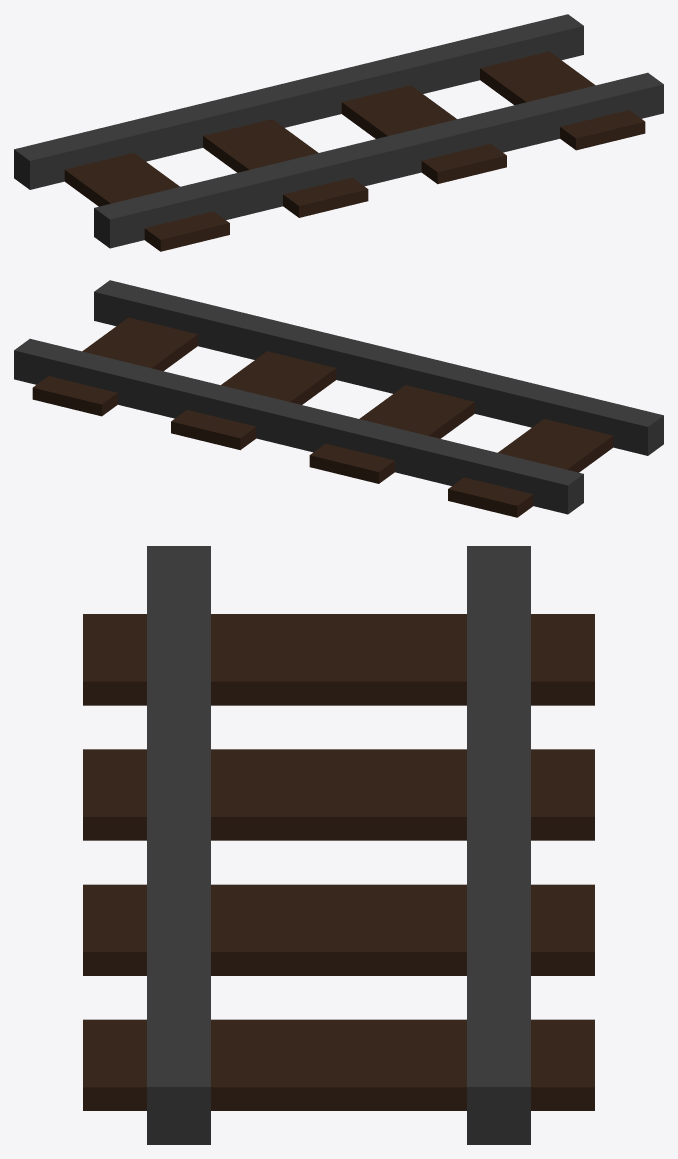
File: Cave_Lair_Rail_Road_Track_Straight_01.fbx
3 renders of one model, top to bottom at view 1: azimuth 30°, elevation 25°; view 2: azimuth 150°, elevation 25°; view 3: azimuth 270°, elevation 25°, orthographic. The views are drawn at different scales.
Parts seen in each view (by area): view 1: Cave_Lair_Rail_Road_Track_Straight_01; view 2: Cave_Lair_Rail_Road_Track_Straight_01; view 3: Cave_Lair_Rail_Road_Track_Straight_01.
Boxes of the visible parts, x1=… form: Cave_Lair_Rail_Road_Track_Straight_01: x1=14, y1=14, x2=663, y2=251; Cave_Lair_Rail_Road_Track_Straight_01: x1=14, y1=280, x2=663, y2=517; Cave_Lair_Rail_Road_Track_Straight_01: x1=83, y1=546, x2=594, y2=1144.
Size of the model in its own units: 2 by 0.1 by 0.8.
